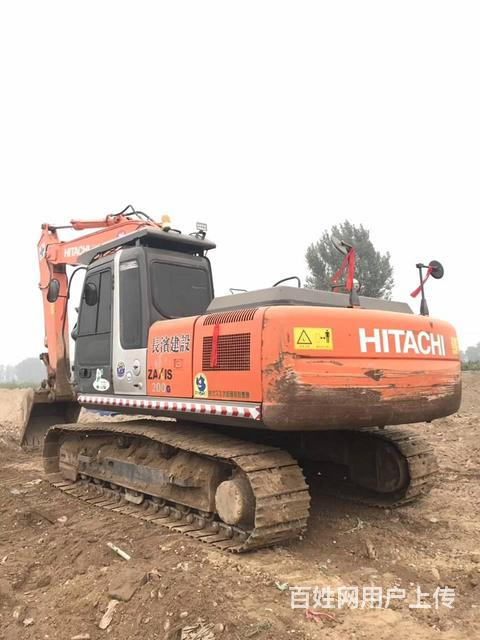excavator: (23, 208, 462, 576)
